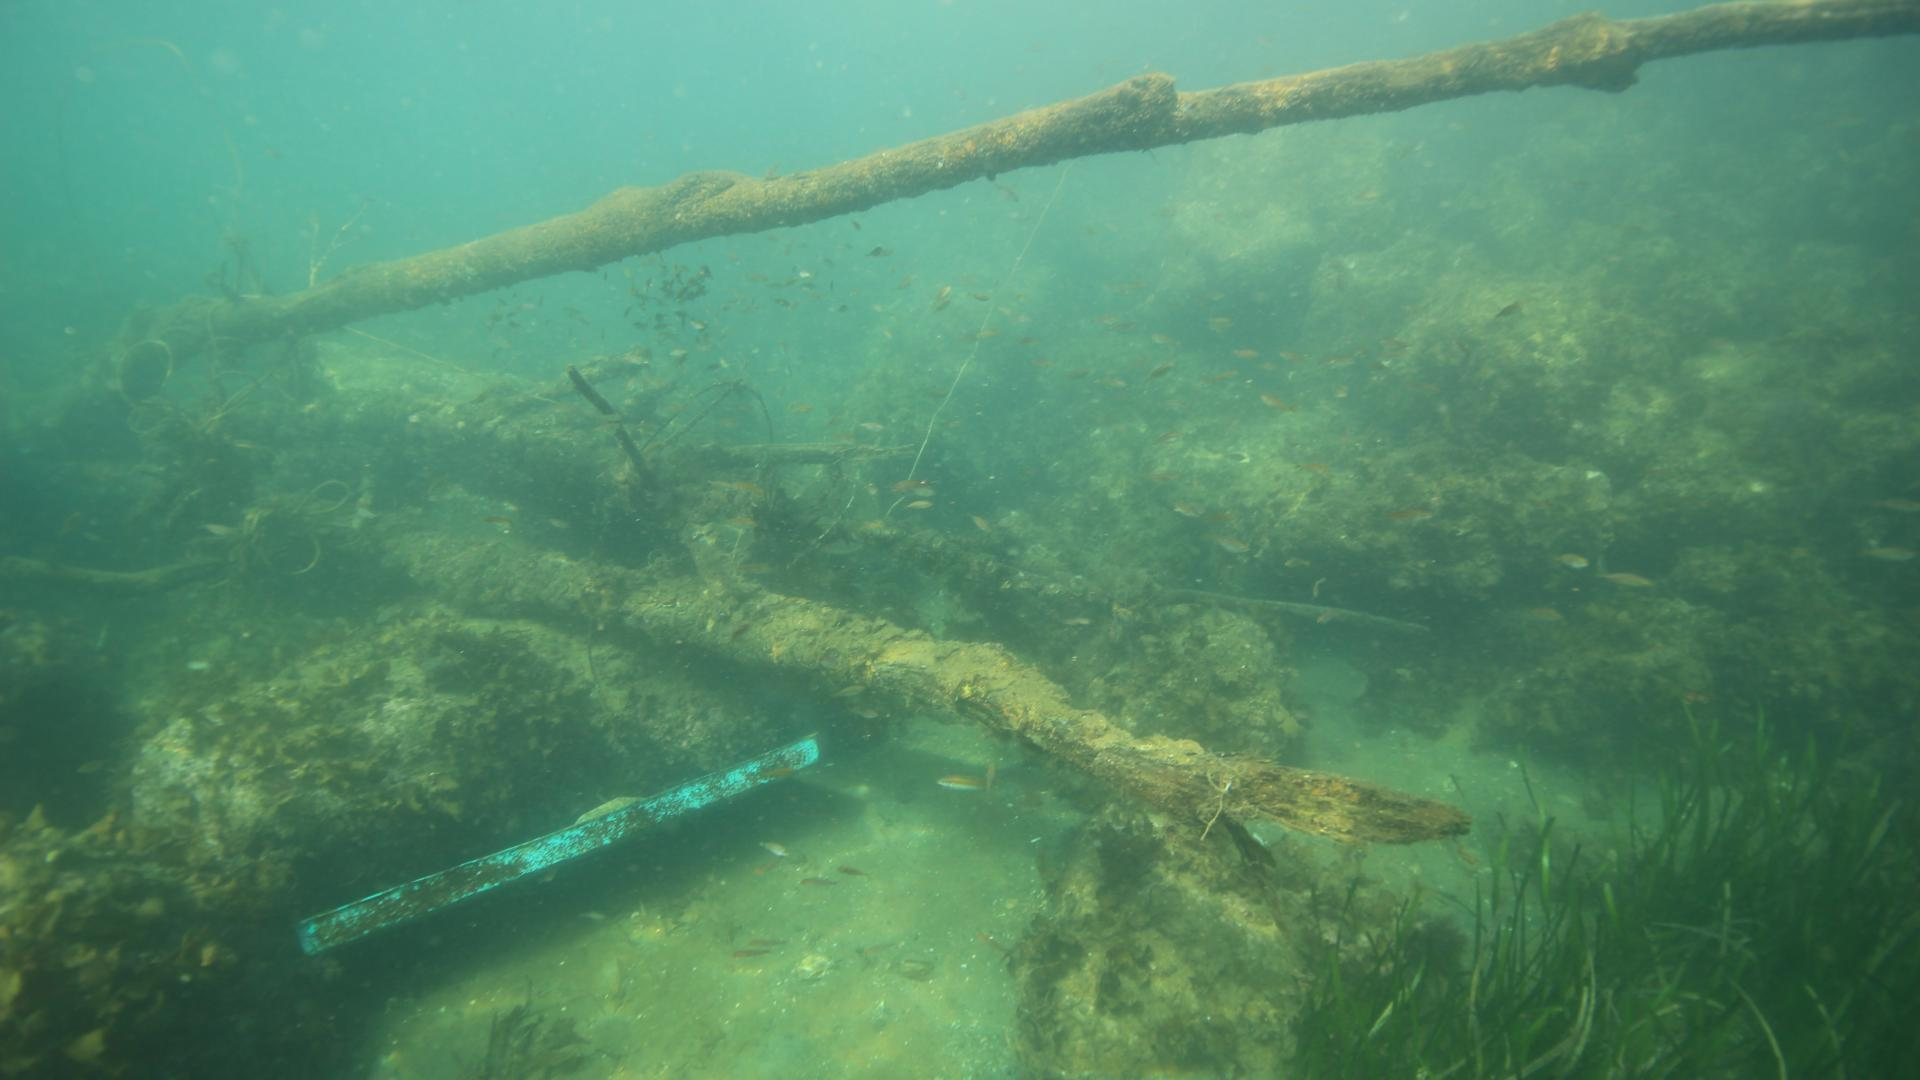bundle of ropes: (65, 37, 367, 589)
wood: (0, 0, 1920, 874)
